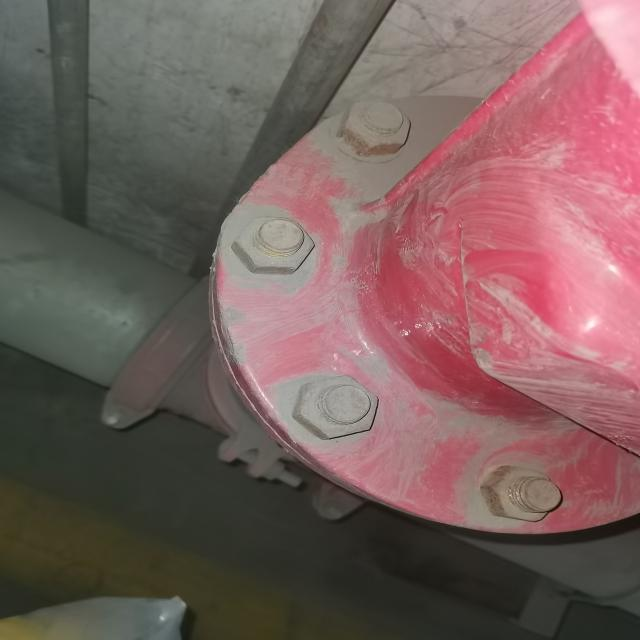bolt nut: (287, 371, 380, 441), (227, 213, 318, 277), (476, 461, 561, 524), (334, 95, 416, 160)
